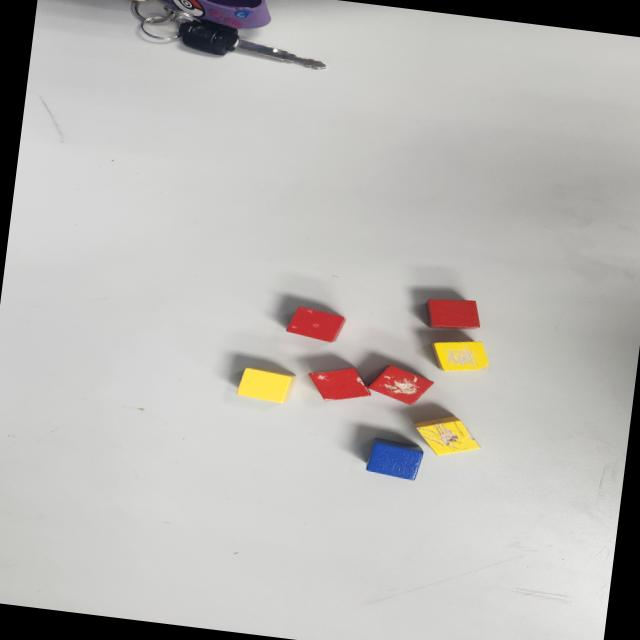blue: (364, 436, 424, 482)
broken: (410, 411, 486, 462), (365, 362, 436, 408), (304, 362, 376, 406), (427, 335, 494, 377), (284, 304, 346, 344)
red: (422, 294, 483, 334)
yellow: (235, 365, 294, 404)
